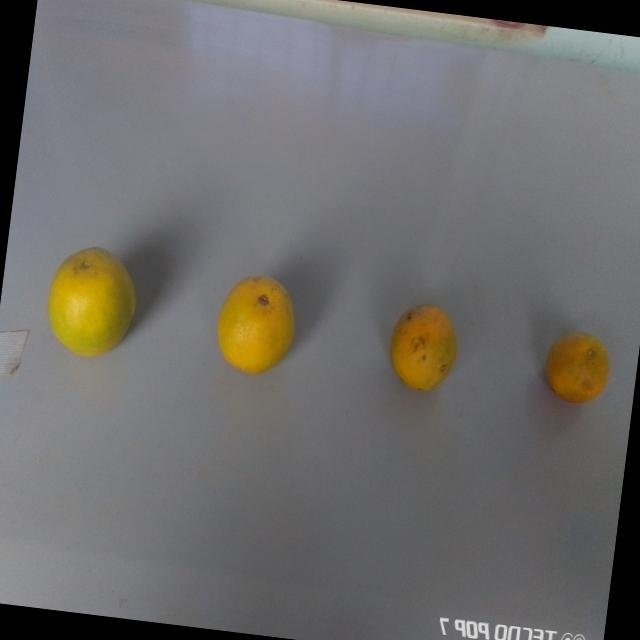agrume: (32, 241, 159, 382), (201, 269, 312, 387), (375, 298, 465, 402), (537, 323, 617, 421)
